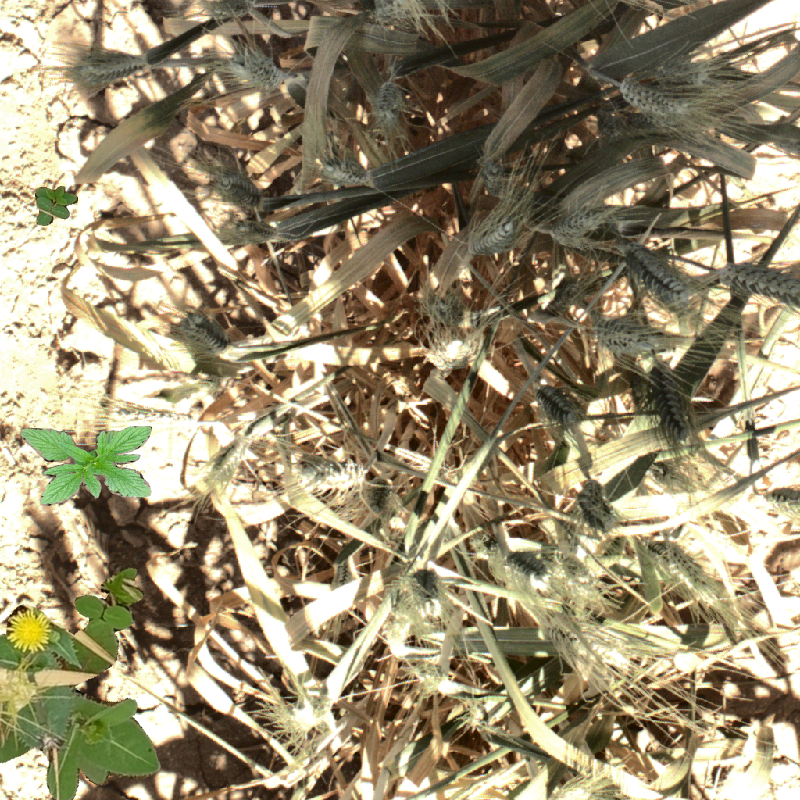spikelet: (612, 536, 735, 627), (52, 497, 111, 595), (618, 240, 698, 309), (380, 566, 443, 651), (614, 74, 703, 131), (586, 310, 674, 363), (197, 434, 256, 507), (646, 382, 699, 461), (720, 259, 800, 309), (102, 395, 207, 429), (546, 200, 615, 250), (295, 456, 368, 495), (466, 212, 525, 260), (229, 47, 288, 93), (72, 48, 145, 85), (278, 692, 336, 738), (210, 164, 264, 211), (532, 383, 584, 430), (650, 51, 715, 87), (425, 332, 476, 372), (316, 156, 372, 189), (369, 79, 406, 126), (370, 1, 428, 27), (756, 486, 800, 518)
weed: (1, 563, 164, 800), (20, 426, 152, 506), (35, 186, 78, 226)
